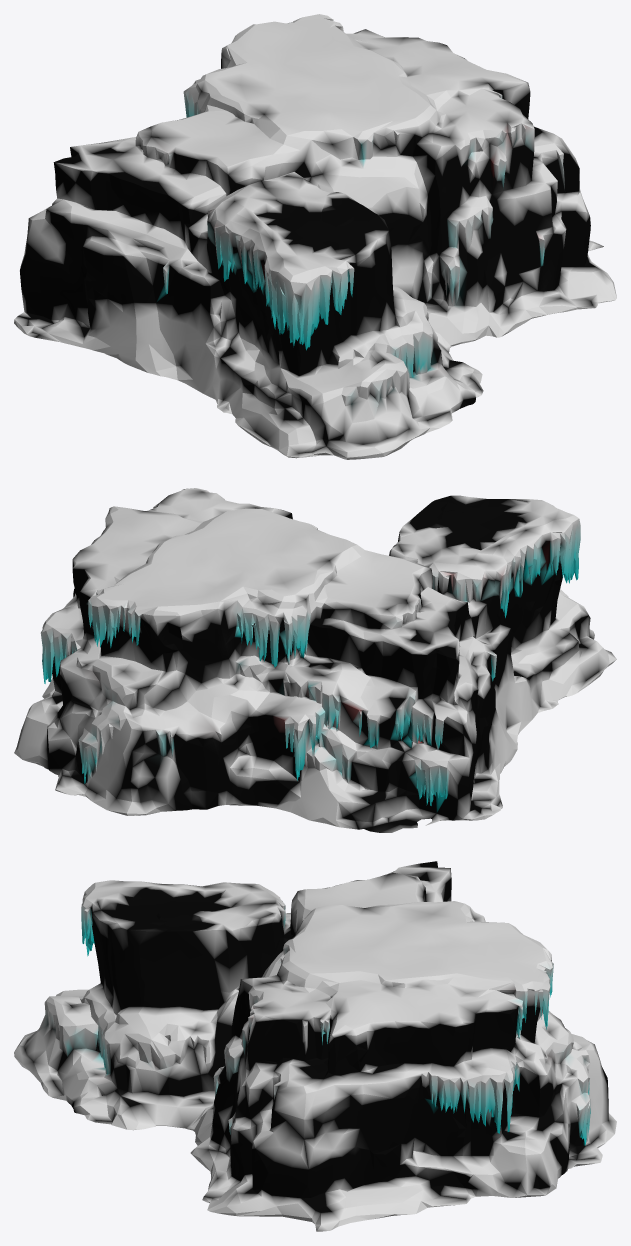
File: CliffIce2_4.fbx
3 views of the same model, one above another, from view 1: azimuth 30°, elevation 25°; view 2: azimuth 150°, elevation 25°; view 3: azimuth 270°, elevation 25° (orthographic). The views are drawn at different scales.
Visible parts, largest first — view 1: CliffIce2_4_LOD0; view 2: CliffIce2_4_LOD0; view 3: CliffIce2_4_LOD0.
Part boxes in pixels (x1,y1,x2,y2): CliffIce2_4_LOD0: (14, 14, 616, 459); CliffIce2_4_LOD0: (14, 488, 616, 832); CliffIce2_4_LOD0: (14, 861, 616, 1231).
Size of what is drawn, in the model's own units: 1620 by 575 by 1715.
